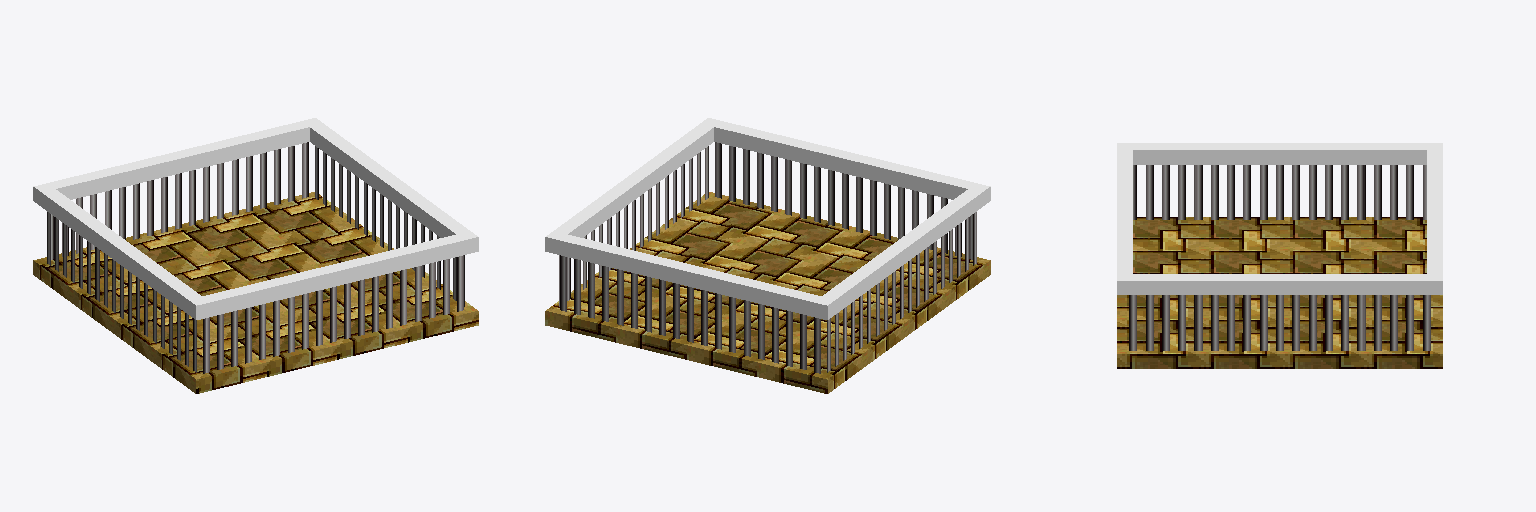
3 renders of one model, left to right at view 1: azimuth 30°, elevation 25°; view 2: azimuth 150°, elevation 25°; view 3: azimuth 270°, elevation 25°, orthographic.
Visible parts, largest first — view 1: world_root; view 2: world_root; view 3: world_root.
Boxes of the visible parts, box(x1,y1,x2,y2) form: world_root: box(33, 118, 478, 393); world_root: box(545, 118, 990, 393); world_root: box(1117, 143, 1442, 368).
Size of the model in its own units: 125 by 37.5 by 125.
Materials: 3 (2 with a texture image).